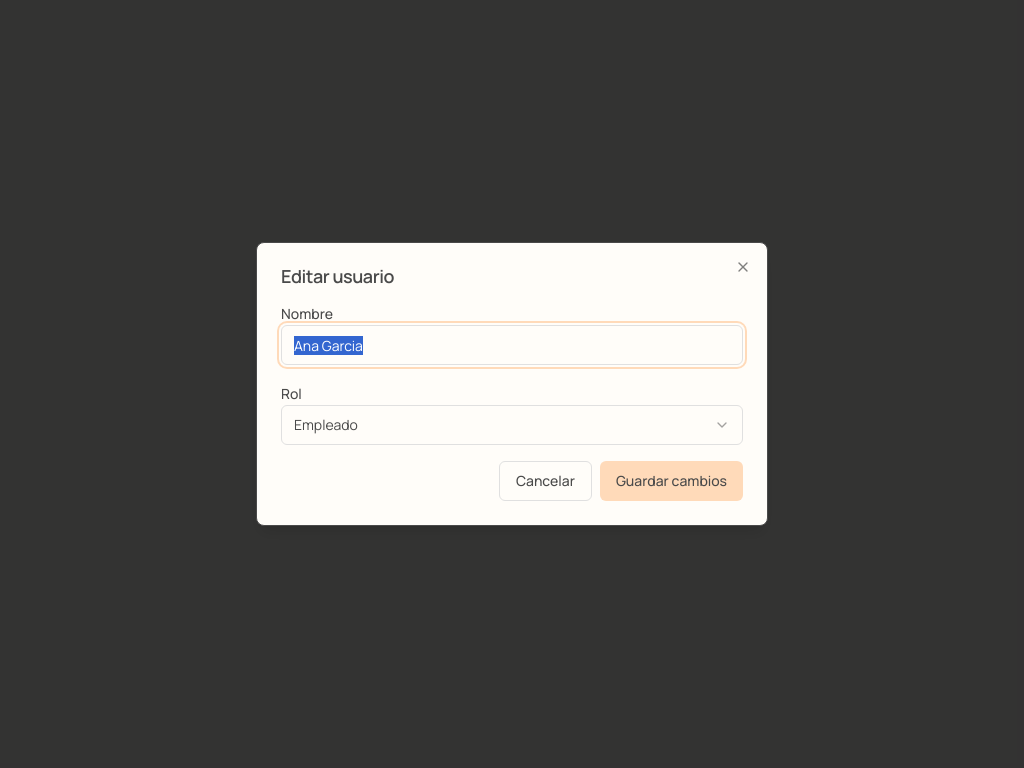
UserFormDialog: modo editar › muestra error genérico ante un fallo al actualizar
Click the button "Guardar cambios" at (671, 481), box [600,461,743,501]
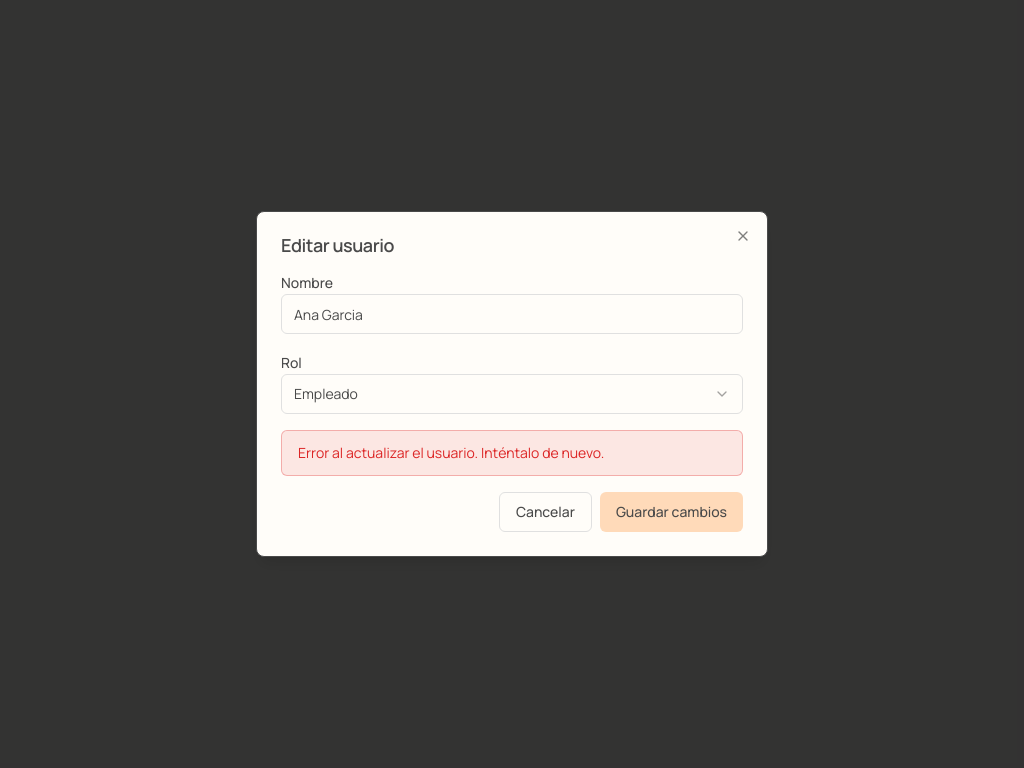
Expected: the text "Error al actualizar el usuario. Inténtalo de nuevo." is shown, [281,430,743,476]
